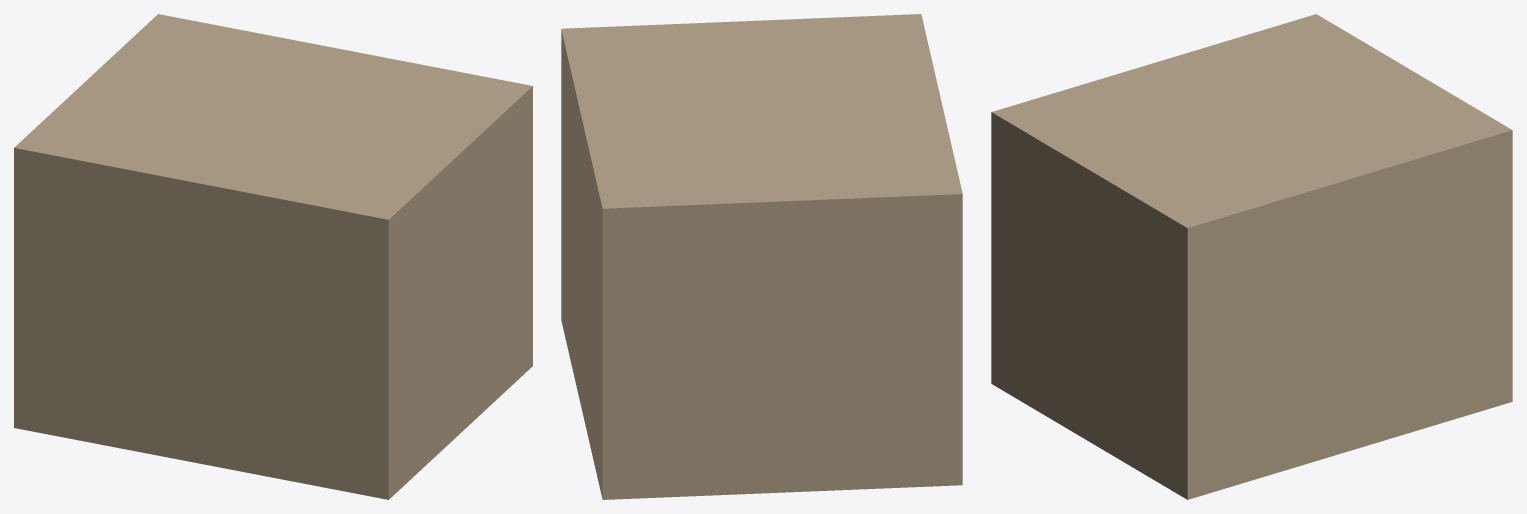
Rendered from bld_55879633.dae.
3 renders of one model, left to right at view 1: azimuth 30°, elevation 25°; view 2: azimuth 150°, elevation 25°; view 3: azimuth 270°, elevation 25°, orthographic. The views are drawn at different scales.
Parts seen in each view (by area): view 1: Alberta; view 2: Alberta; view 3: Alberta.
Boxes of the visible parts, box(x1,y1,x2,y2) form: Alberta: box(14, 14, 532, 499); Alberta: box(561, 14, 962, 499); Alberta: box(991, 14, 1512, 499).
Size of the model in its own units: 13.53 by 13.9 by 8.
